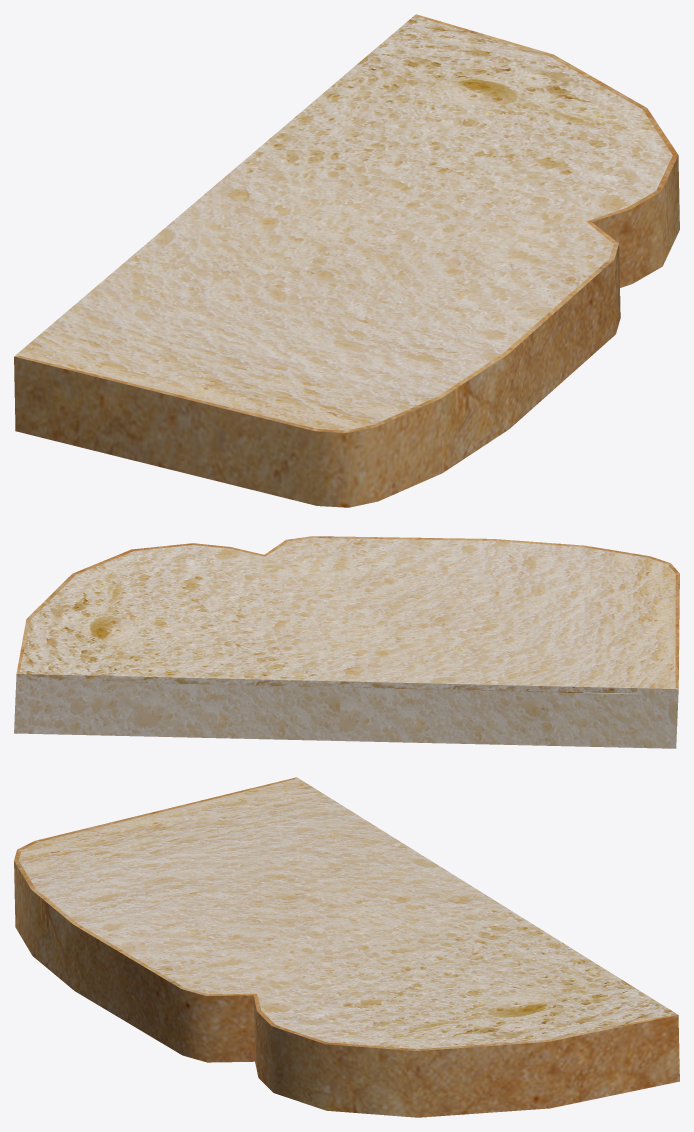
Rendered from bread2.obj.
3 views of the same model, one above another, from view 1: azimuth 30°, elevation 25°; view 2: azimuth 150°, elevation 25°; view 3: azimuth 270°, elevation 25° (orthographic). The views are drawn at different scales.
Visible parts, largest first — view 1: Bread.001_Bread_0; view 2: Bread.001_Bread_0; view 3: Bread.001_Bread_0.
Boxes of the visible parts, box(x1,y1,x2,y2) form: Bread.001_Bread_0: box(14, 14, 679, 507); Bread.001_Bread_0: box(14, 536, 679, 748); Bread.001_Bread_0: box(14, 777, 679, 1117).
Size of the model in its own units: 0.0407 by 0.00581 by 0.0385.
